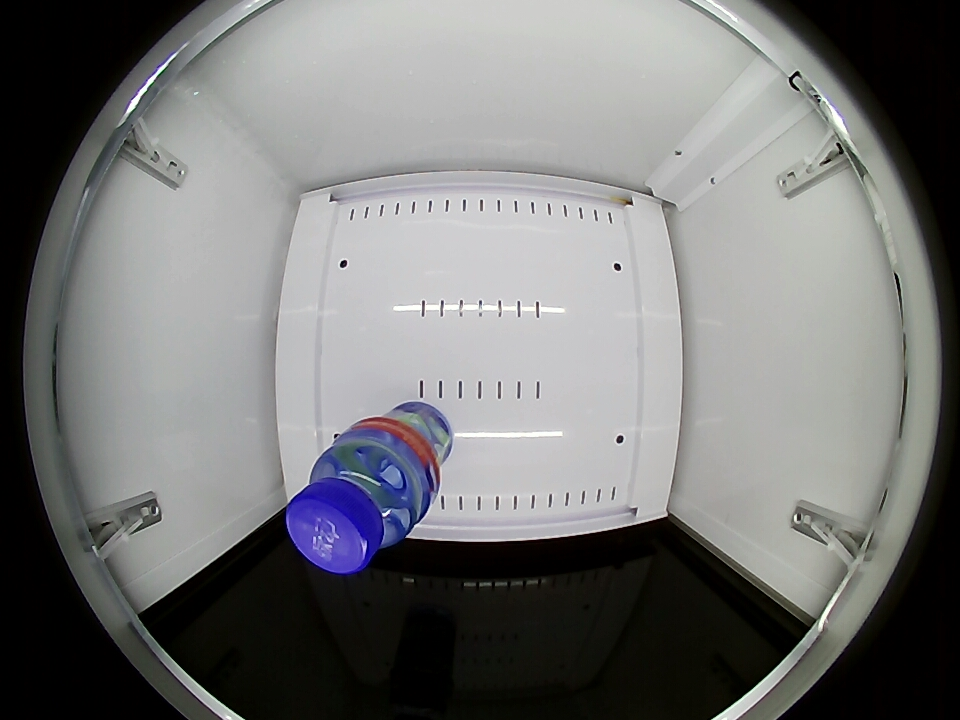maidong: (285, 431, 429, 575)
